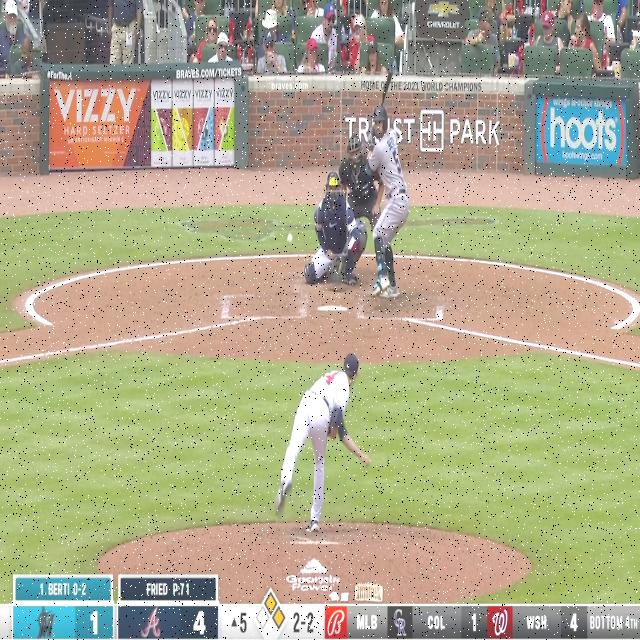baseball: (287, 233, 292, 244)
